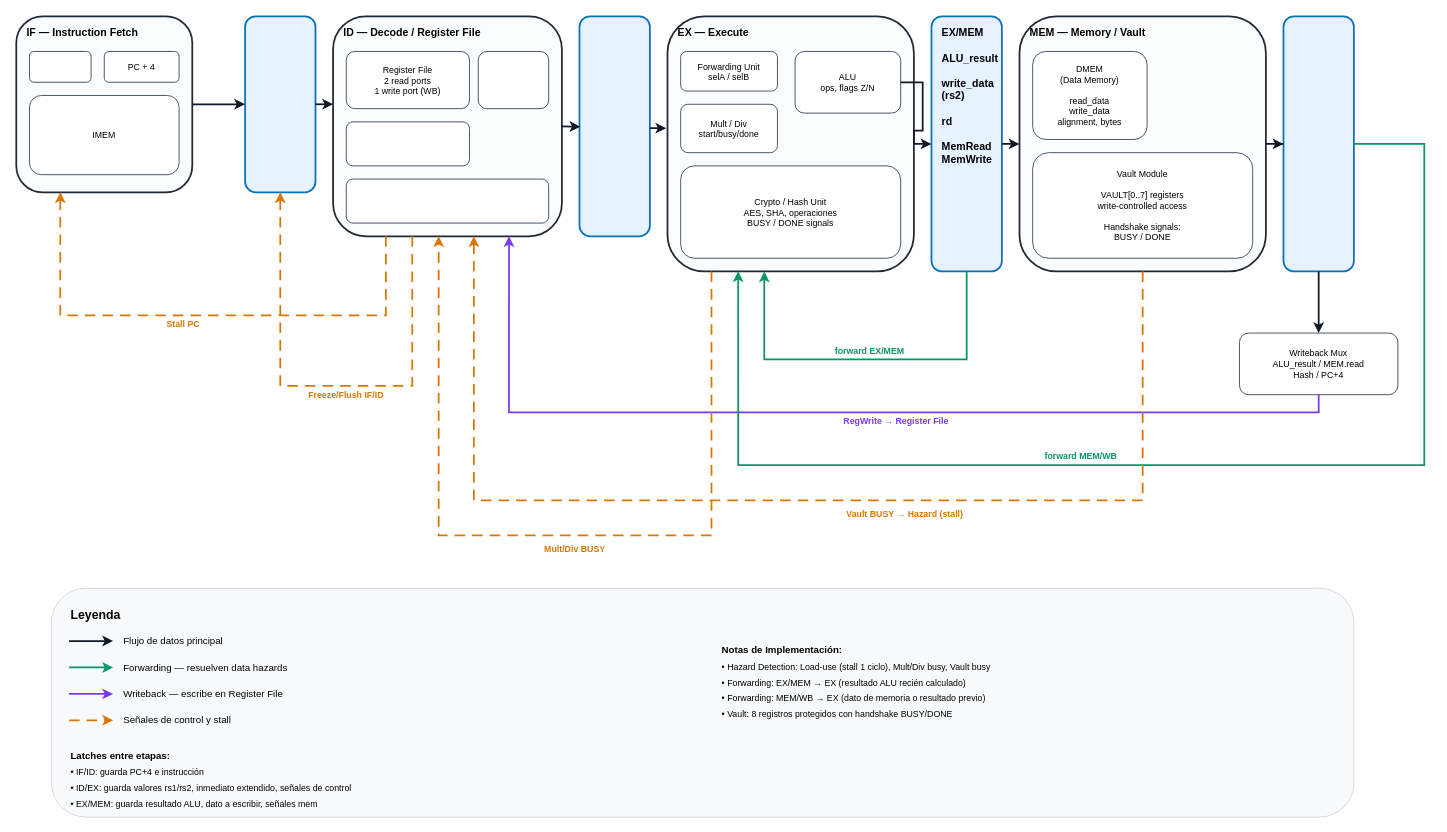
The diagram is 1447 pixels wide and 832 high, and some of its shapes have lost their labels. The centre of each missing label's shape, as x and y in pixels:
Decoder / Control: the point at 513,80
Hazard Detection Unit LD→use, Mult/Div/Vault BUSY → Stall: the point at 447,200
ID/EX rs1_val rs2_val Imm_ext rs1, rs2 rd ctrl signals: the point at 614,126
IF/ID PC+4 IR (instrucción) flush_bit: the point at 280,104
MEM/WB read_data ALU_result rd RegWrite MemToReg: the point at 1318,143
PC: the point at 60,66
Sign/Zero Ext: the point at 407,143
